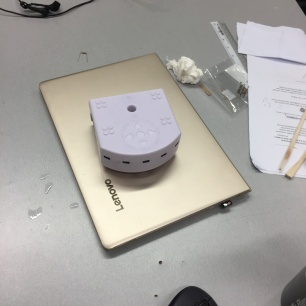thymio: (85, 83, 186, 180)
